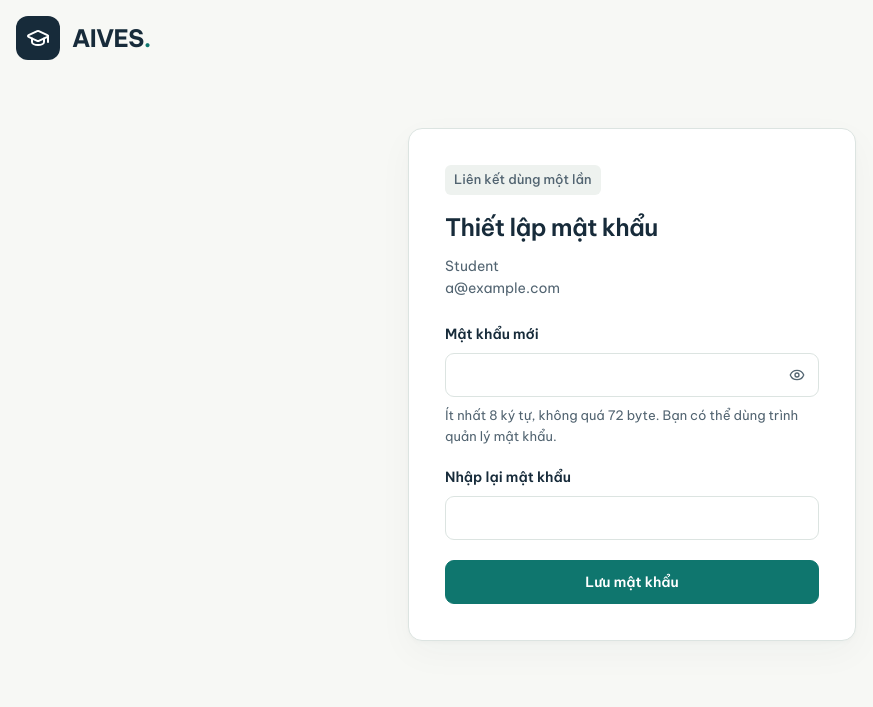
Test case: authentication exceptions › handles a null rejection from the password service without an unhandled exception
In the password field labelled "Mật khẩu mới": [632, 375] box x1=445 y1=353 x2=819 y2=397, type "password123"
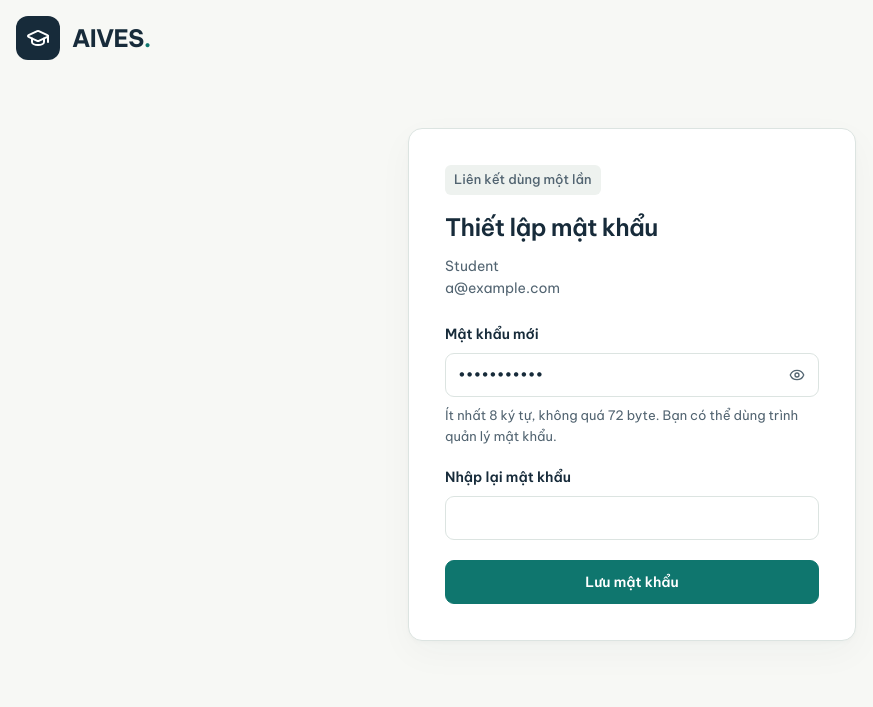
In the password field labelled "Nhập lại mật khẩu": [632, 518] box x1=445 y1=496 x2=819 y2=540, type "password123"
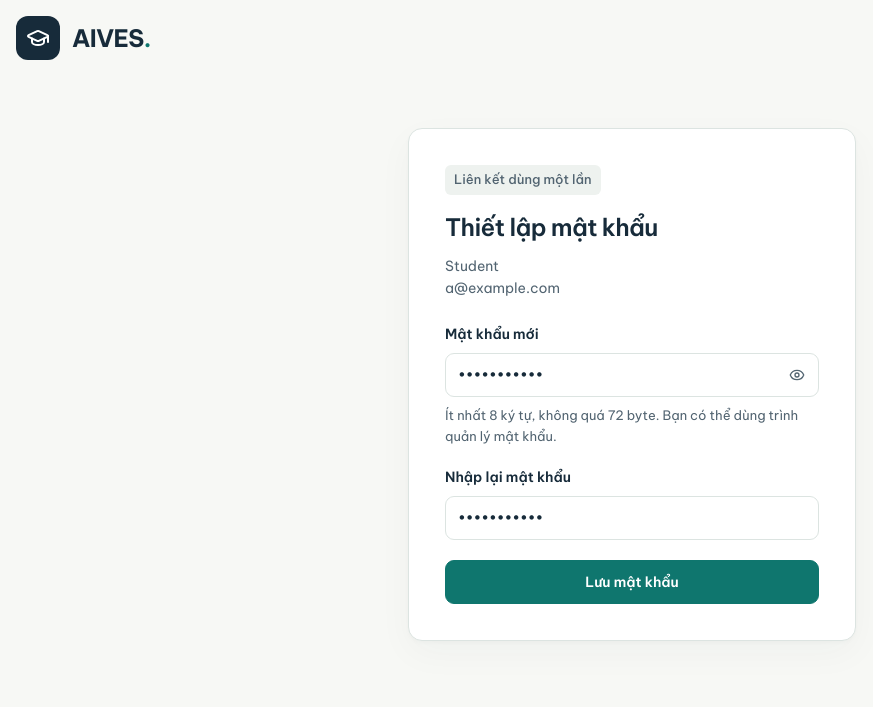
Submit the form, box x1=445 y1=324 x2=819 y2=604
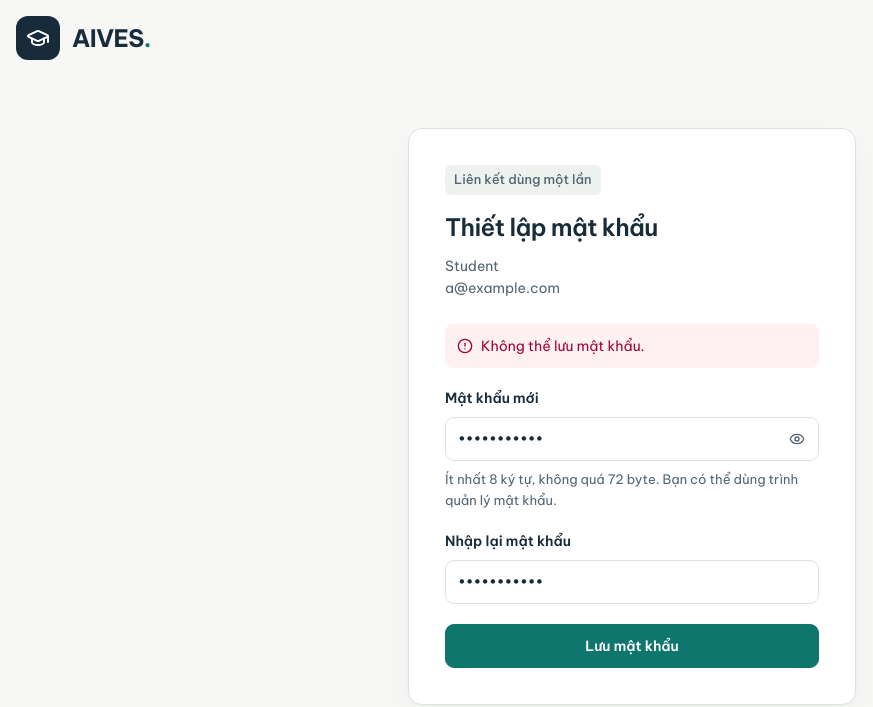
Now the message reads "Không thể lưu mật khẩu.", box x1=481 y1=337 x2=645 y2=355
